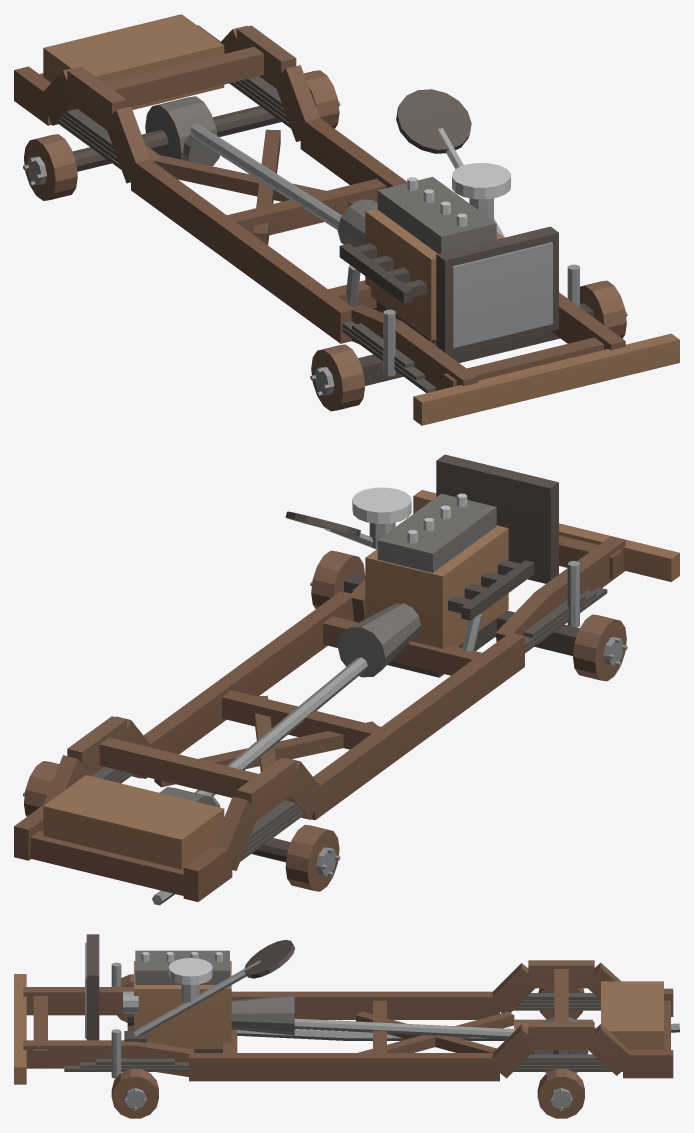
File: restoration_chassis.glb
3 views of the same model, one above another, from view 1: azimuth 30°, elevation 25°; view 2: azimuth 150°, elevation 25°; view 3: azimuth 270°, elevation 25° (orthographic). The views are drawn at different scales.
Parts seen in each view (by area): view 1: RestorationChassis; view 2: RestorationChassis; view 3: RestorationChassis.
Boxes of the visible parts, x1,y1,x2,y2 form: RestorationChassis: [14, 14, 679, 425]; RestorationChassis: [14, 454, 679, 905]; RestorationChassis: [14, 934, 679, 1118].
Bounding box in the file's own units: 1.64 × 1.02 × 4.22.
